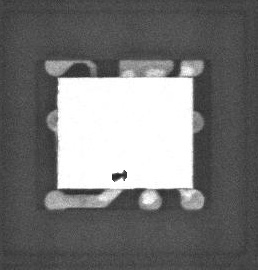DIE_INK: (107, 178, 120, 189)
